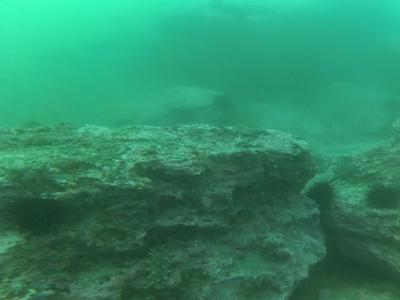urchin: (9, 198, 70, 233), (362, 185, 394, 212), (309, 182, 334, 206)
